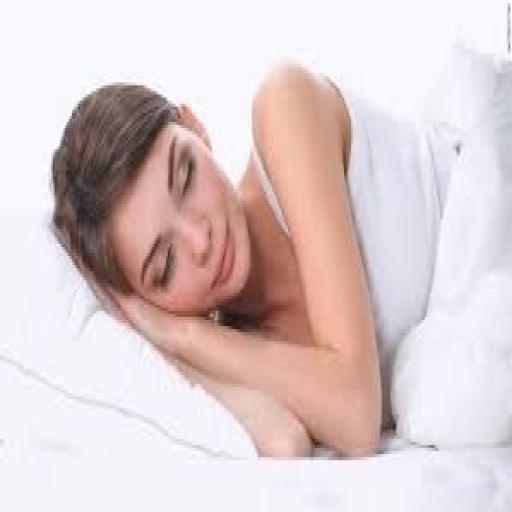sleeping: (46, 40, 510, 463)
